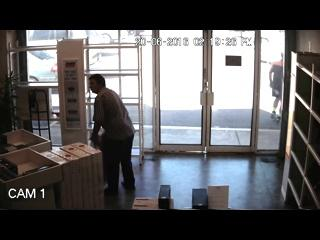Normal: (268, 52, 284, 122)
shoplifting: (88, 74, 136, 196)
